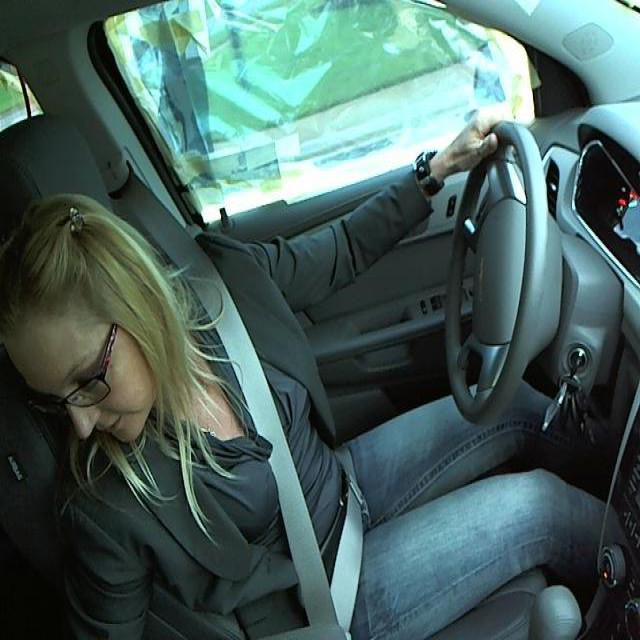seatbelt: (183, 272, 363, 631)
